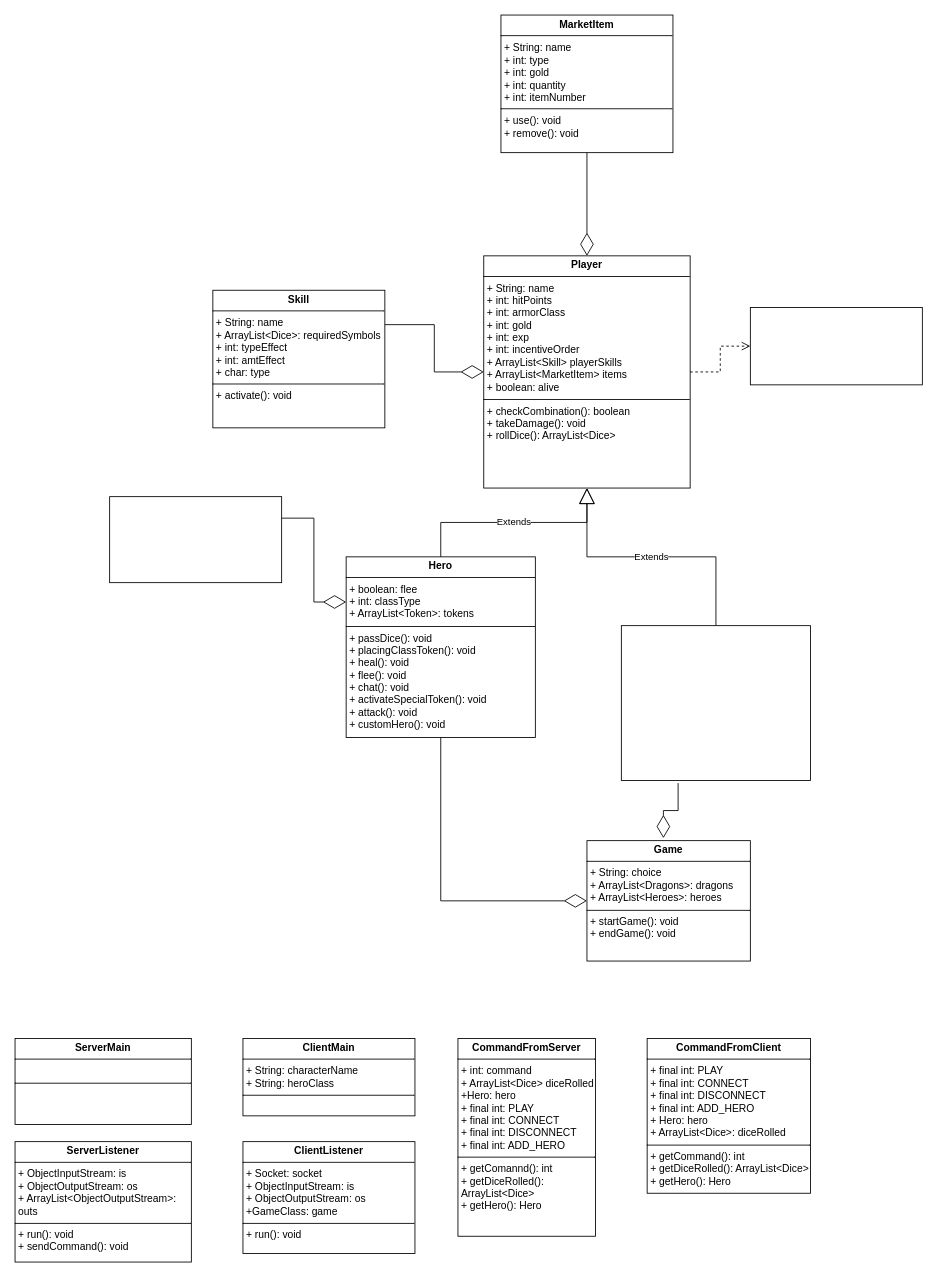
This 937x1277 diagram has some shape labels left out. The shapes that lost their labels are listed below. From the top down, each one's centre as x and y in pixels, then its label:
[835,346]: Dice + int[]: diceSymbols + roll(): ArrayList<Dice>
[195,539]: Token + int: type + applyEffect(): void + removeEffect(): void
[715,702]: Dragon + + successHunt(): void + attack(): void + useSpecialAbility(): void
